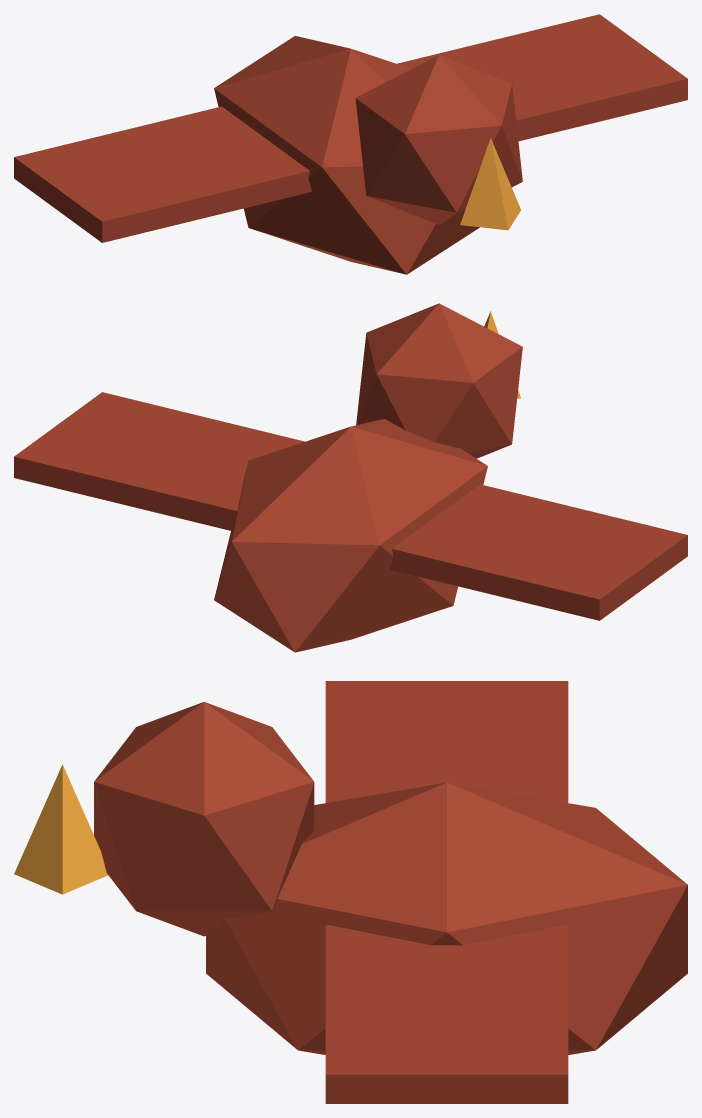
The model's file is bird_3.glb.
The picture shows the model from 3 angles, top to bottom: view 1: azimuth 30°, elevation 25°; view 2: azimuth 150°, elevation 25°; view 3: azimuth 270°, elevation 25°; orthographic projection. The views are drawn at different scales.
Parts seen in each view (by area): view 1: body, wing_l, head, wing_r, beak; view 2: body, wing_l, wing_r, head; view 3: body, wing_r, head, wing_l, beak.
Boxes of the visible parts, x1,y1,x2,y2 form: body: (214,36,479,274); wing_l: (14,106,311,242); head: (355,54,522,224); wing_r: (397,14,687,141); beak: (460,138,520,230); body: (214,419,487,652); wing_l: (390,484,687,620); wing_r: (14,392,304,530); head: (356,303,522,458); body: (206,782,687,1054); wing_r: (325,924,568,1103); head: (94,702,314,936); wing_l: (325,681,568,802); beak: (14,764,107,894).
Bounding box in the file's own units: 0.23 × 0.102 × 0.1665.
